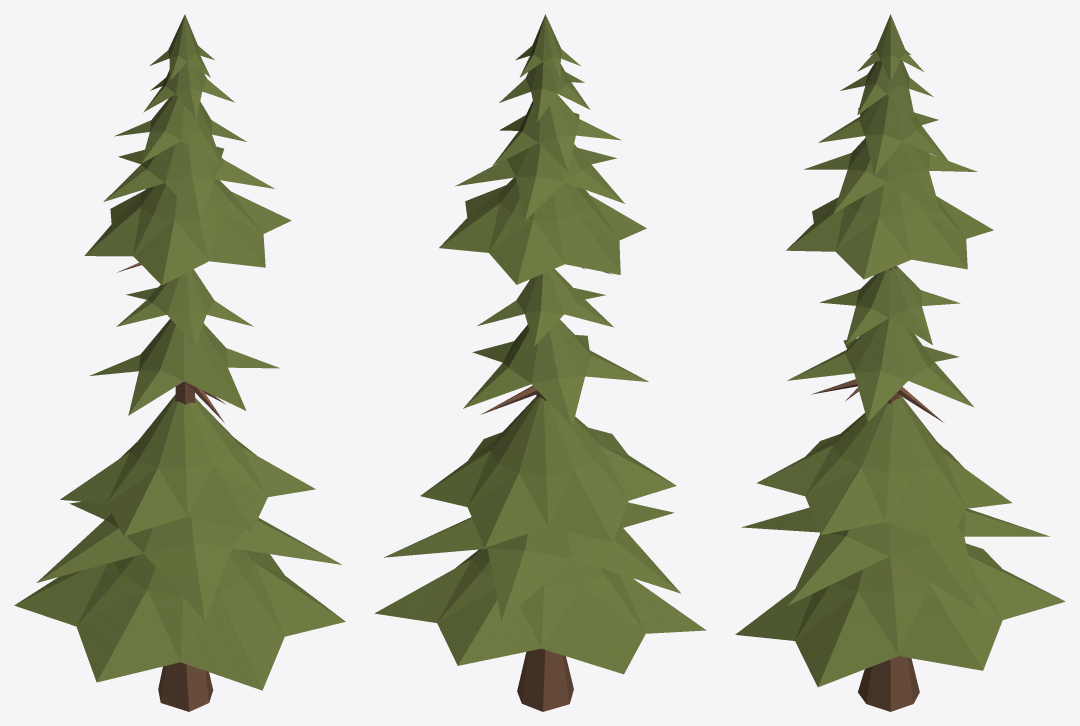
The model's file is Tree_3.fbx.
3 renders of one model, left to right at view 1: azimuth 30°, elevation 25°; view 2: azimuth 150°, elevation 25°; view 3: azimuth 270°, elevation 25°, orthographic.
Parts seen in each view (by area): view 1: polySurface10499; view 2: polySurface10499; view 3: polySurface10499.
Part boxes in pixels (x1,y1,x2,y2): polySurface10499: (14,14,345,711); polySurface10499: (374,14,706,711); polySurface10499: (735,14,1065,711).
Size of the model in its own units: 246 by 602 by 264.
